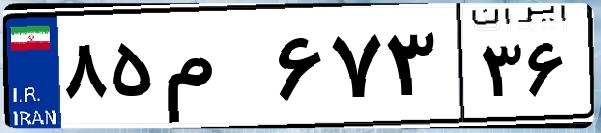3: (385, 28, 445, 110), (475, 38, 525, 113)
5: (110, 28, 158, 98)
6: (270, 28, 330, 110), (525, 38, 570, 115)
7: (330, 28, 385, 110)
8: (57, 26, 110, 100)
م: (158, 20, 270, 120)
